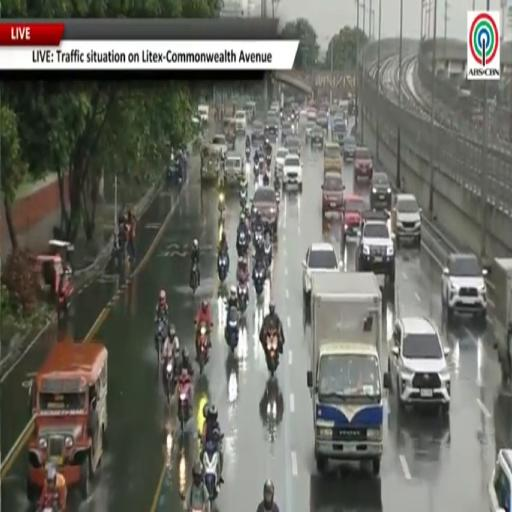car: (388, 316, 450, 417), (442, 253, 487, 322), (357, 212, 395, 284), (303, 243, 342, 305), (392, 194, 421, 248), (252, 186, 278, 242), (488, 448, 511, 511), (342, 195, 366, 246), (322, 171, 344, 217), (370, 171, 392, 211), (282, 154, 302, 193), (354, 147, 373, 181), (225, 153, 243, 186), (324, 142, 341, 173), (264, 110, 279, 140), (222, 118, 236, 150), (332, 119, 347, 146), (276, 147, 288, 177), (211, 134, 227, 156), (342, 136, 356, 161), (234, 110, 247, 135), (310, 125, 324, 148), (252, 121, 264, 145), (286, 136, 300, 156), (282, 121, 294, 143), (316, 112, 328, 130), (245, 102, 256, 121), (198, 105, 209, 124), (306, 121, 316, 141), (307, 107, 317, 122), (270, 101, 280, 114)
jeepney: (27, 341, 107, 501), (200, 145, 222, 182), (225, 153, 244, 186), (223, 118, 236, 150)
motorcycle: (203, 440, 220, 502), (57, 269, 73, 319), (178, 373, 191, 431), (225, 308, 239, 351), (266, 329, 278, 376), (197, 324, 208, 375), (36, 490, 61, 511), (163, 358, 174, 404), (155, 319, 166, 364), (237, 282, 248, 313), (254, 267, 265, 296), (237, 231, 248, 257), (218, 254, 228, 282), (190, 262, 198, 294), (218, 194, 226, 219), (264, 243, 272, 268), (254, 229, 263, 248), (239, 187, 247, 206), (262, 170, 270, 186), (266, 152, 272, 168), (254, 163, 259, 181), (276, 184, 280, 204), (259, 159, 264, 174), (246, 147, 250, 162)
truck: (307, 272, 390, 475)
